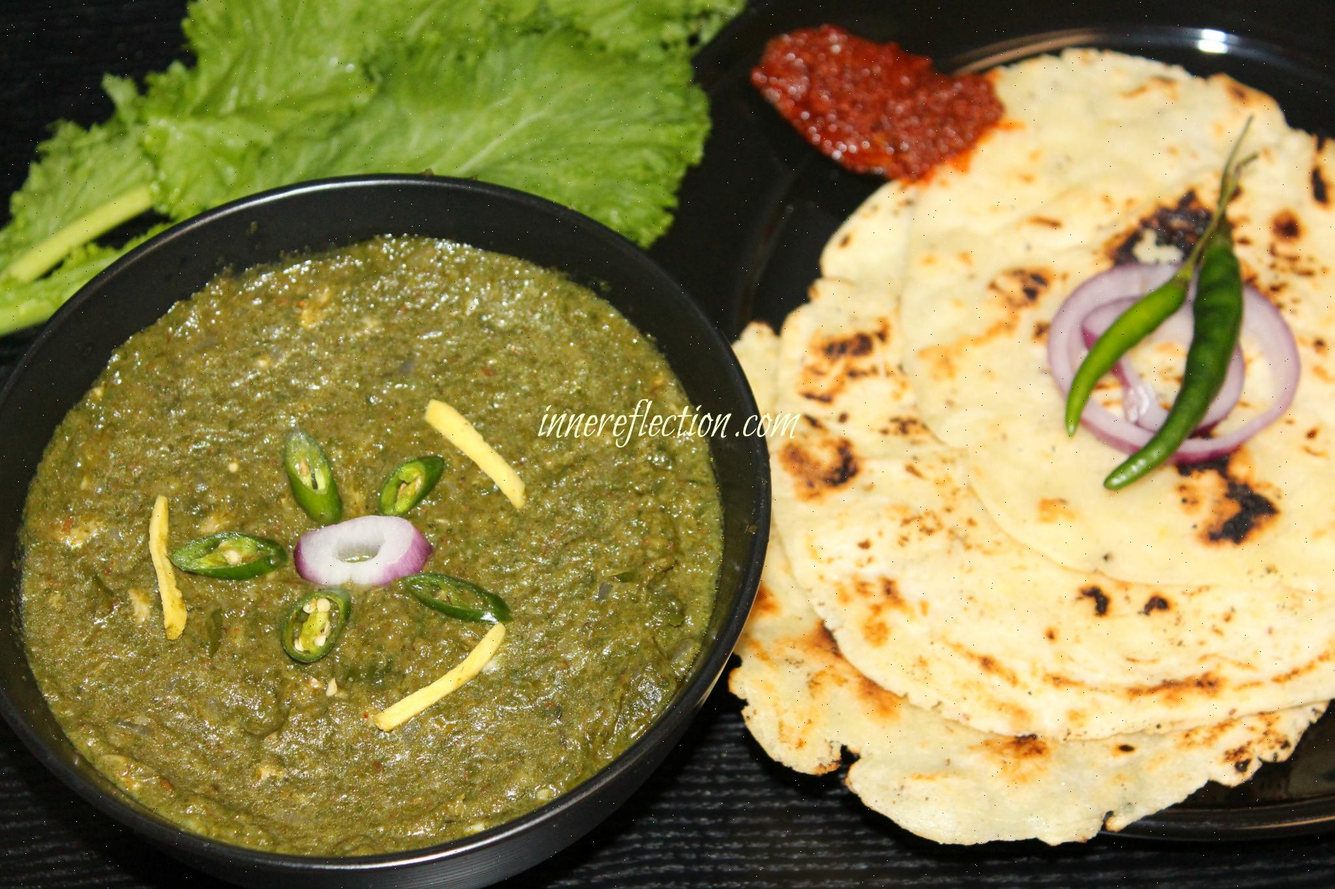saag: (16, 236, 724, 866)
